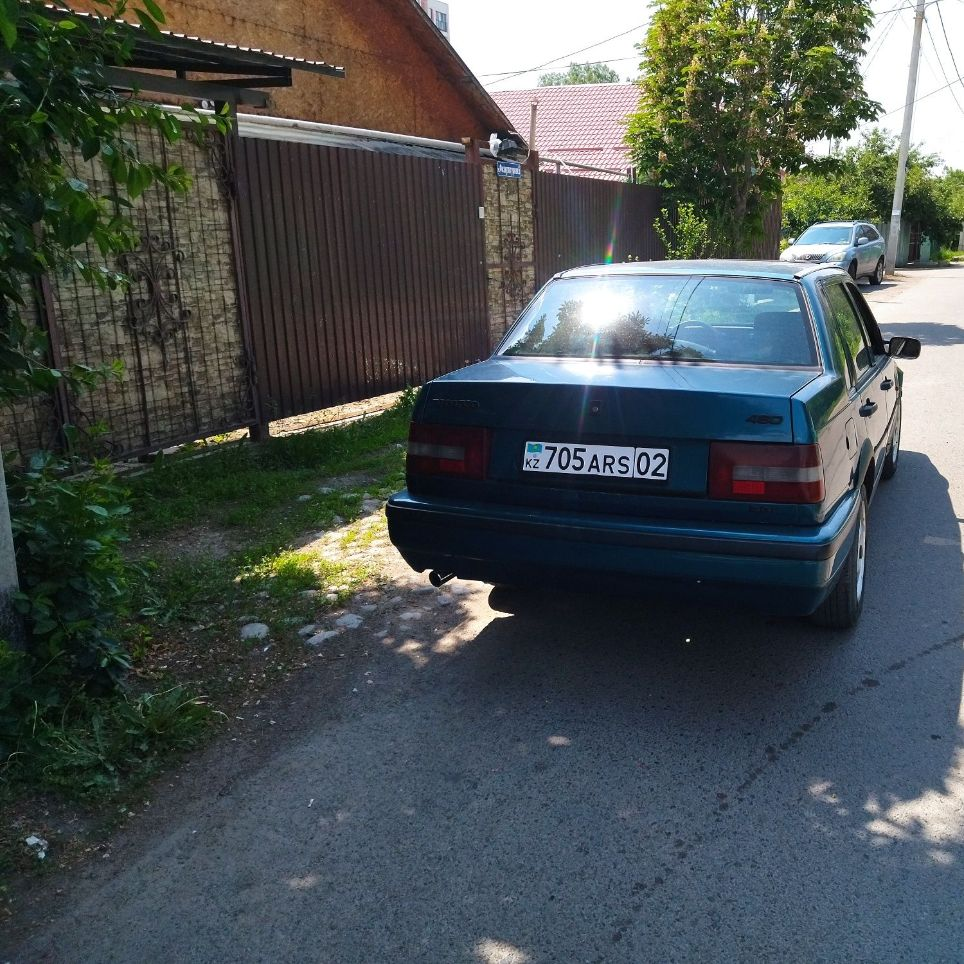license plate: (520, 440, 670, 483)
truck: (403, 263, 891, 631)
